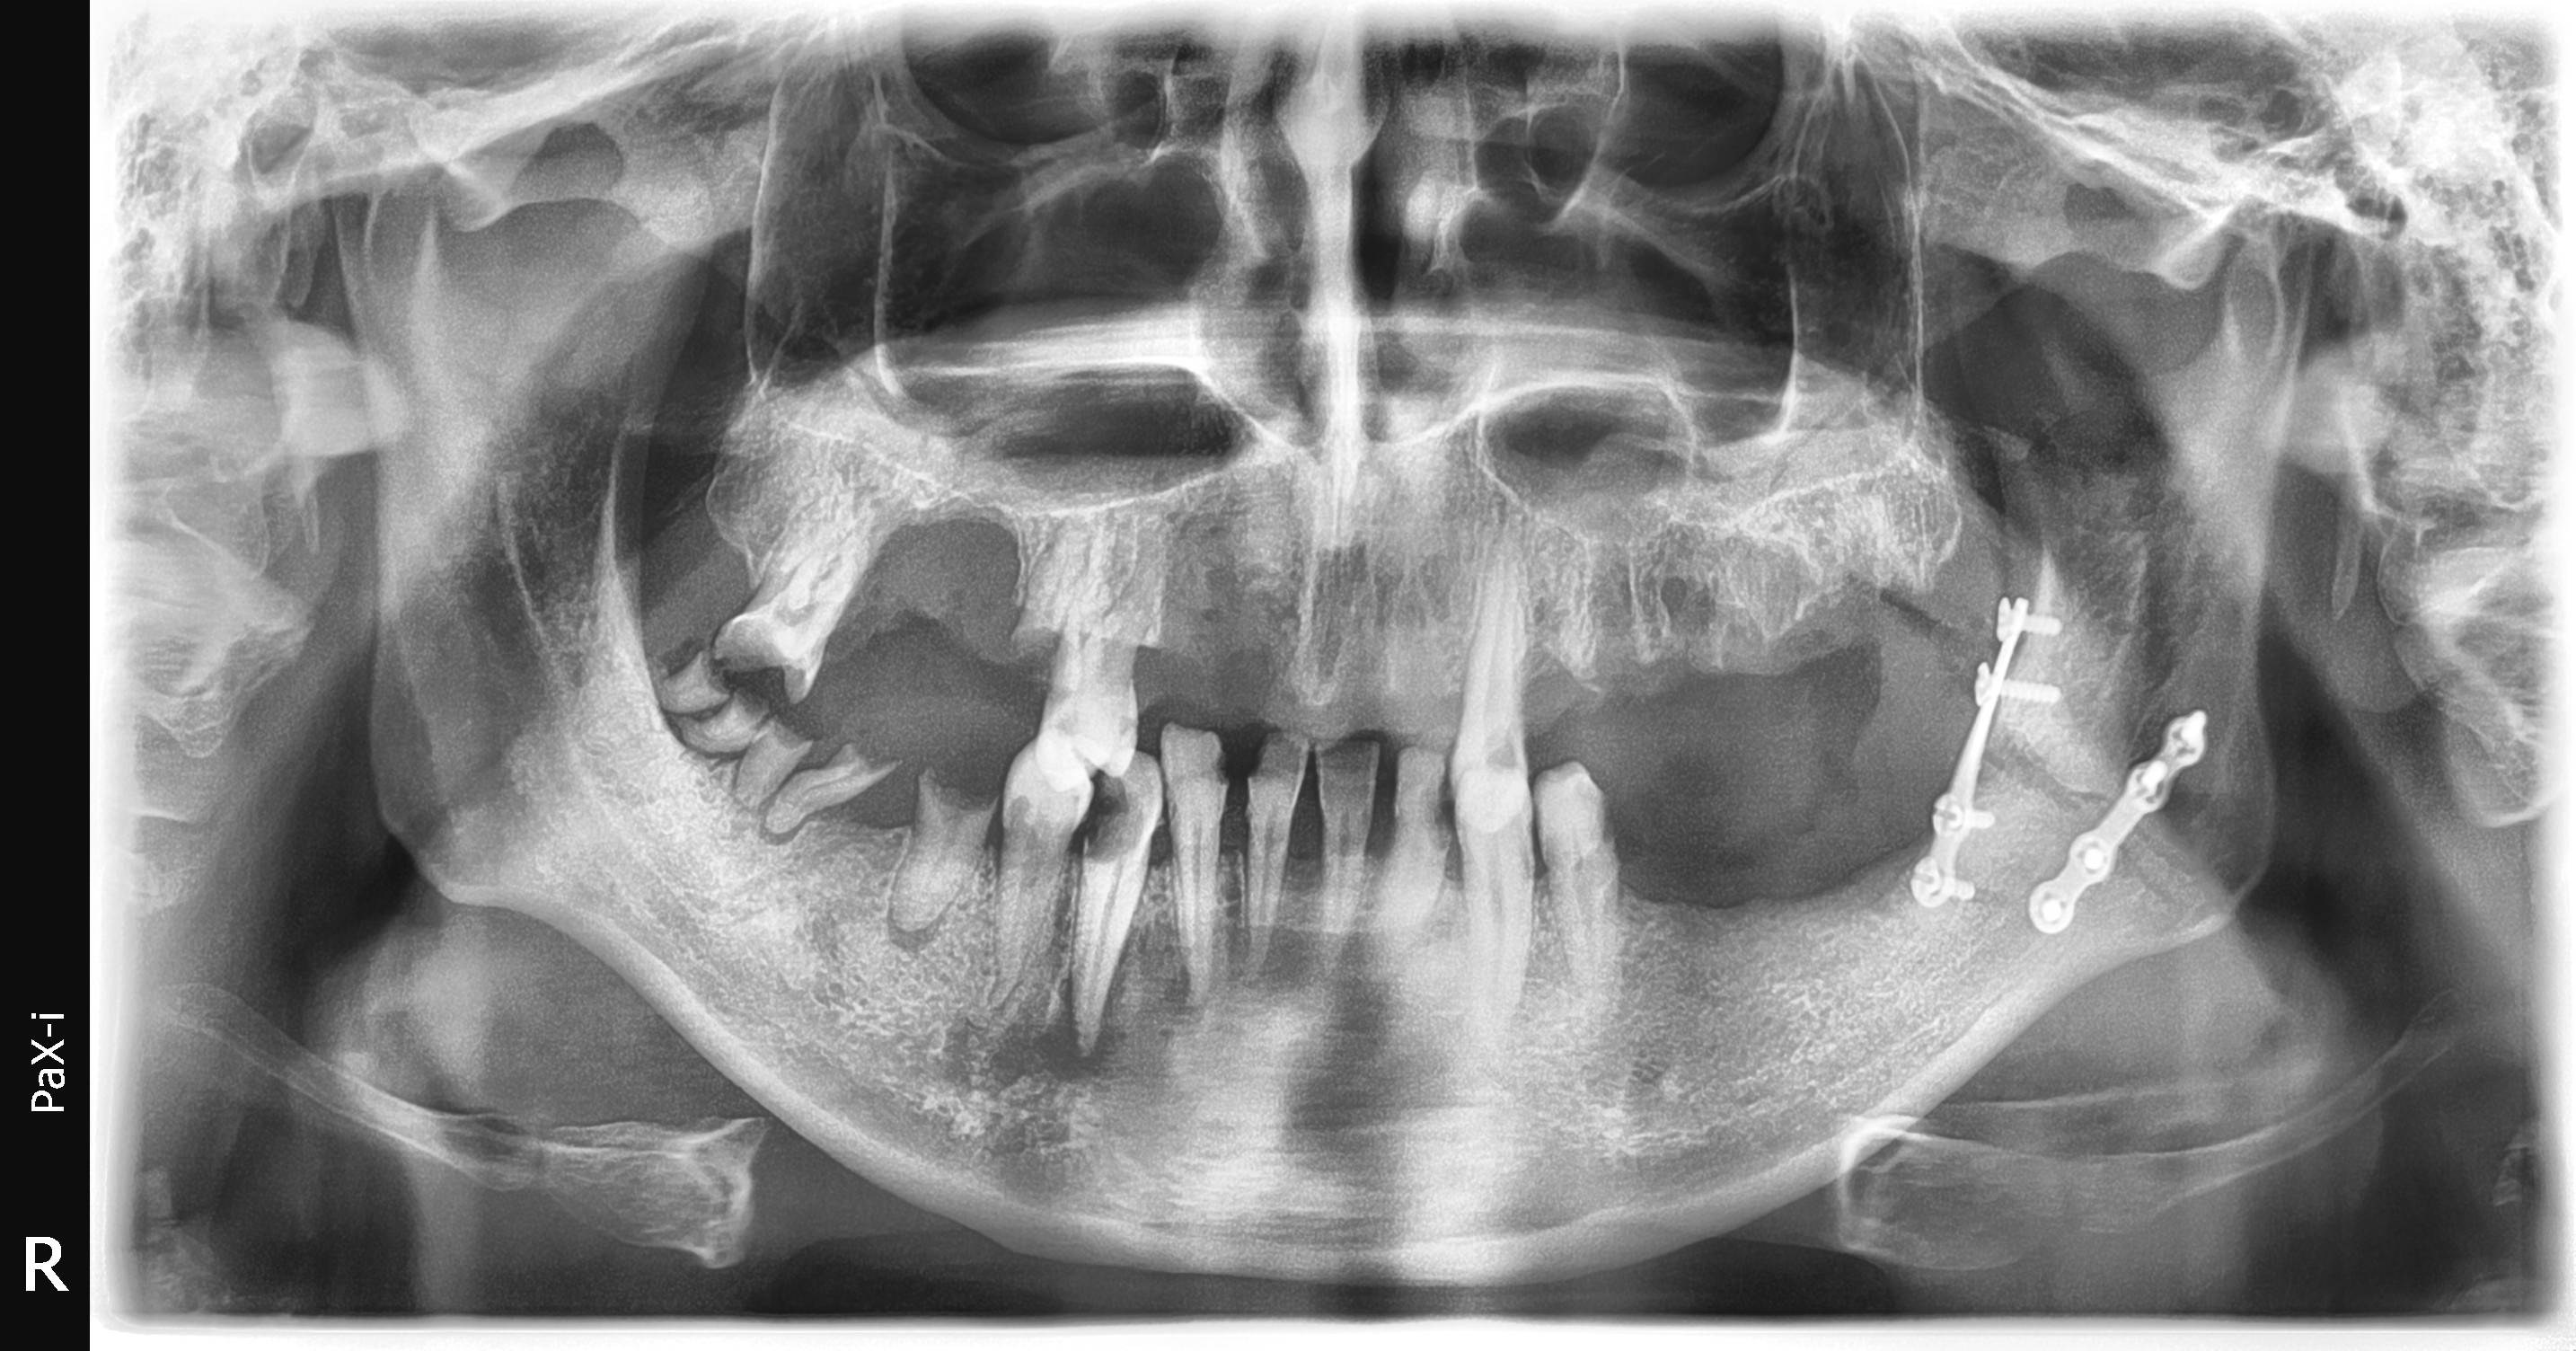API: (559, 443, 1784, 1351), (462, 426, 1603, 1351), (419, 402, 1360, 1351)
CAR: (770, 363, 2402, 1216), (693, 325, 2150, 1189), (724, 341, 2254, 1124), (632, 349, 2010, 1124), (622, 320, 1896, 1114), (503, 331, 1654, 1201), (600, 332, 1831, 1131), (477, 349, 1520, 1225), (538, 331, 1687, 1072), (509, 334, 1595, 1082), (317, 261, 1135, 968)
ROT: (409, 307, 1390, 1222), (341, 271, 1206, 1133), (489, 184, 1573, 819), (334, 286, 1109, 1153), (298, 307, 1056, 1080), (288, 281, 1012, 993)
SRD: (915, 196, 2576, 1158), (877, 102, 2576, 1038)
